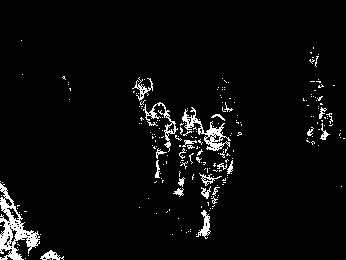person: (197, 113, 233, 241), (174, 106, 202, 197), (146, 102, 174, 179)
